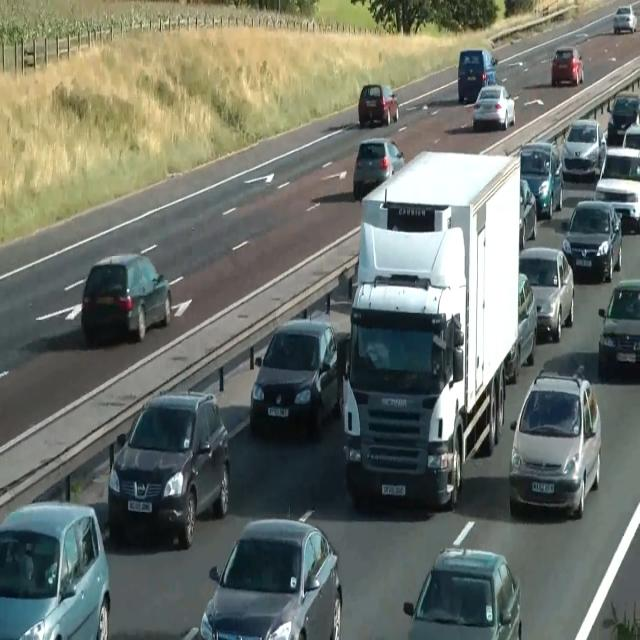bus: (107, 390, 230, 550), (200, 509, 342, 639), (0, 500, 110, 639), (509, 367, 601, 519), (403, 546, 522, 639), (249, 316, 341, 436), (81, 252, 171, 345), (518, 246, 574, 342), (562, 199, 622, 283), (598, 278, 640, 378), (504, 272, 537, 384), (353, 137, 405, 201), (561, 118, 607, 182), (594, 178, 640, 233), (472, 84, 516, 130), (358, 84, 398, 128), (607, 94, 639, 144), (599, 147, 639, 180), (519, 178, 537, 250), (551, 46, 583, 86), (613, 4, 637, 34), (622, 122, 640, 149)
jeep: (519, 140, 563, 218), (457, 48, 497, 102)
minibus: (340, 148, 521, 511)
